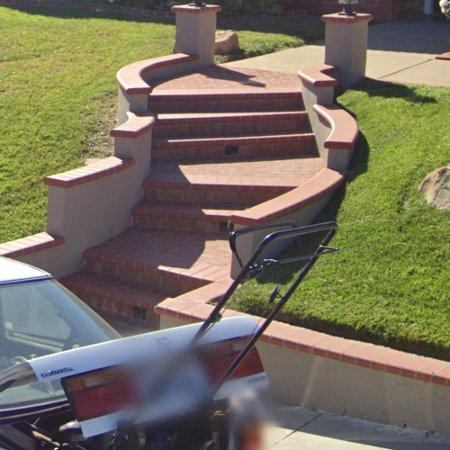stairs: (62, 71, 323, 325)
